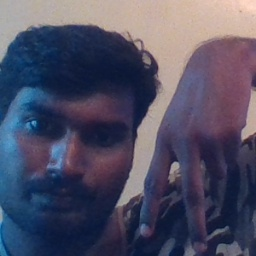Y: (140, 100, 227, 256)
